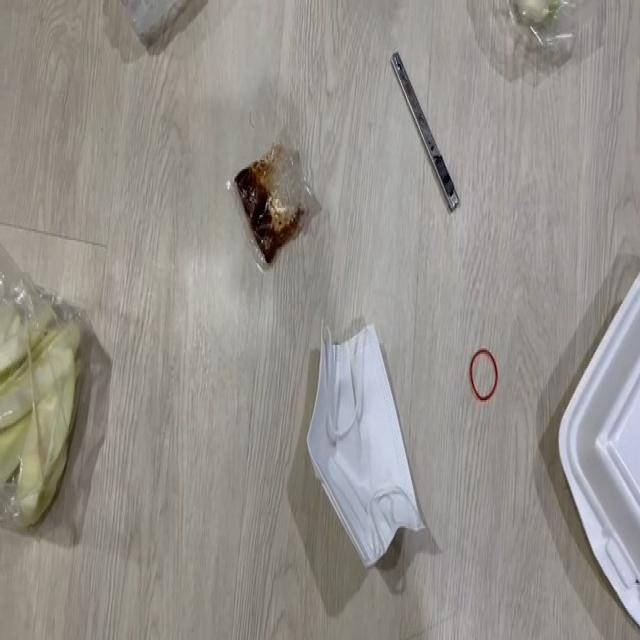Anorganik: (547, 218, 640, 630), (377, 49, 475, 213), (106, 0, 208, 69), (460, 344, 500, 404)
B3: (305, 314, 430, 572), (0, 290, 80, 540), (219, 118, 320, 282)
